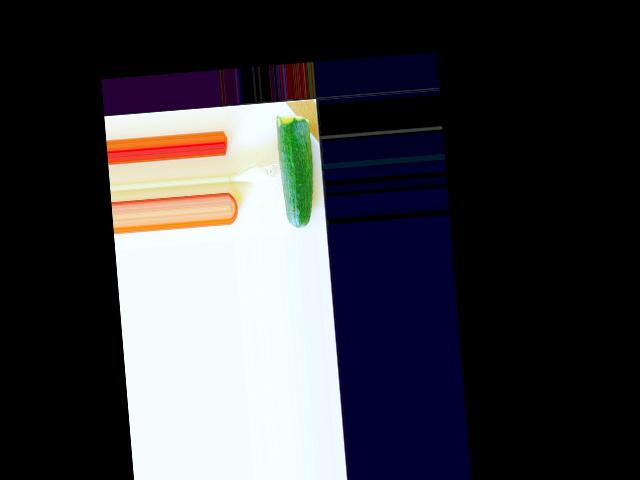cucumber: (276, 113, 318, 230)
